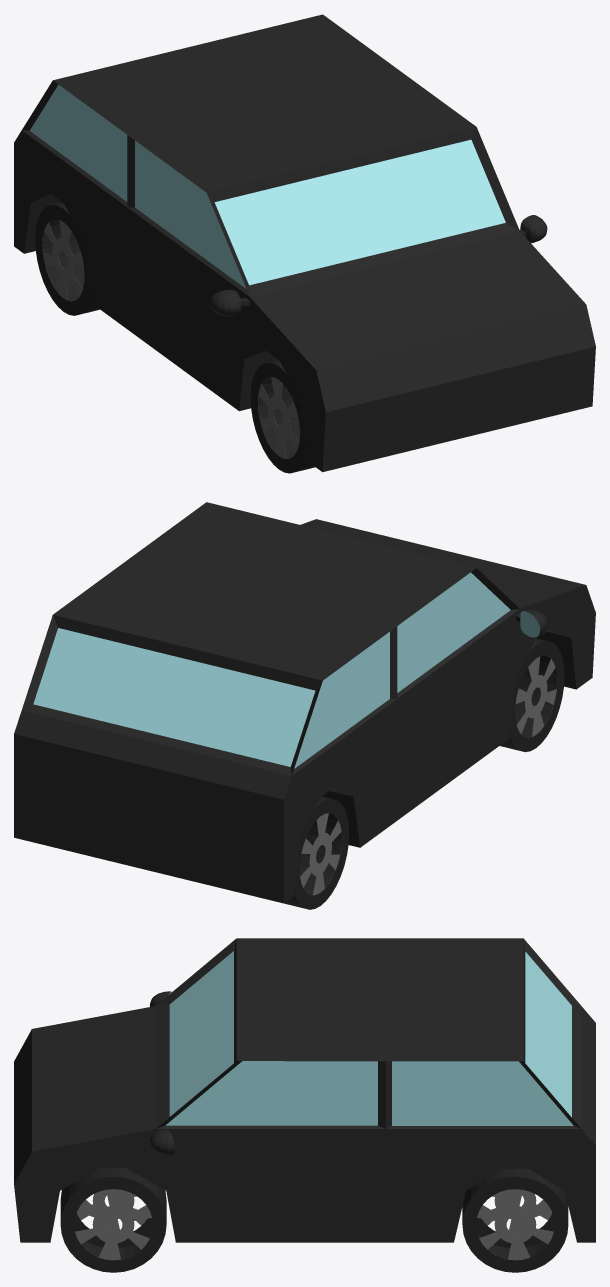
Rendered from Macchina3_ruoteseparate.fbx.
3 views of the same model, one above another, from view 1: azimuth 30°, elevation 25°; view 2: azimuth 150°, elevation 25°; view 3: azimuth 270°, elevation 25° (orthographic). The views are drawn at different scales.
Parts seen in each view (by area): view 1: Telaio, FR, BR; view 2: Telaio, FR, BR; view 3: Telaio, FL, BL.
Part boxes in pixels (box(x1,y1,x2,y2)): Telaio: box(14, 14, 595, 472); FR: box(250, 360, 315, 473); BR: box(35, 202, 99, 315); Telaio: box(14, 502, 595, 903); FR: box(500, 638, 564, 752); BR: box(284, 796, 349, 909); Telaio: box(14, 938, 595, 1242); FL: box(60, 1168, 166, 1272); BL: box(462, 1168, 568, 1272).
Bounding box in the file's own units: 228 × 151 × 371.
